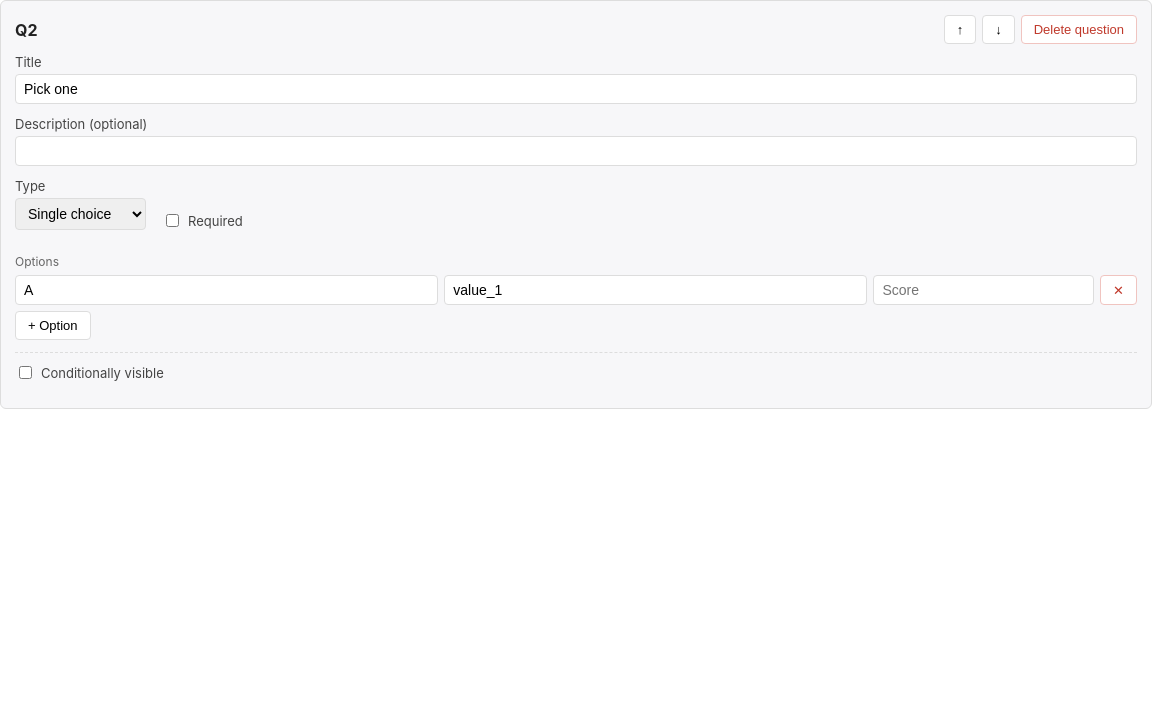
it: QuestionEditor — conditional visibility › toggling it back off removes visibleIf entirely rather than leaving an empty group
This screenshot has width=1152, height=720.
Click the checkbox labelled "Conditionally visible".
click(26, 372)  # box [19,366,32,379]
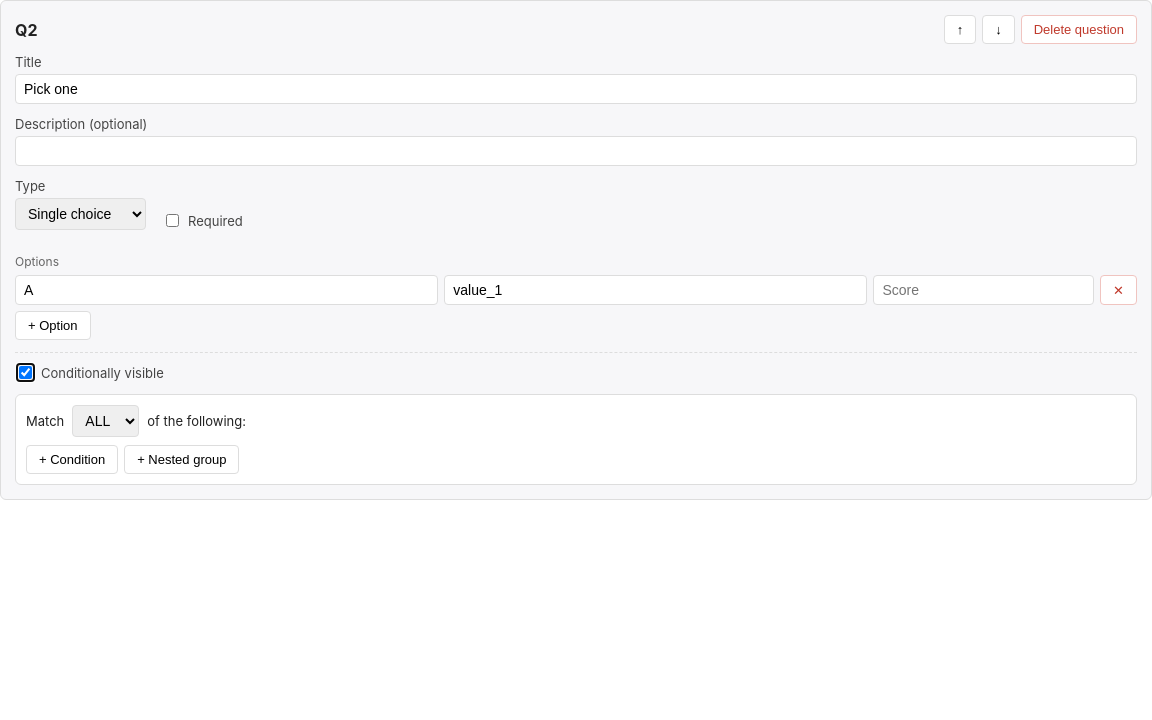
expect the text "Match" is shown: met, box [26,413,64,429]
Click the checkbox labelled "Conditionally visible".
click(26, 372)  # box [19,366,32,379]
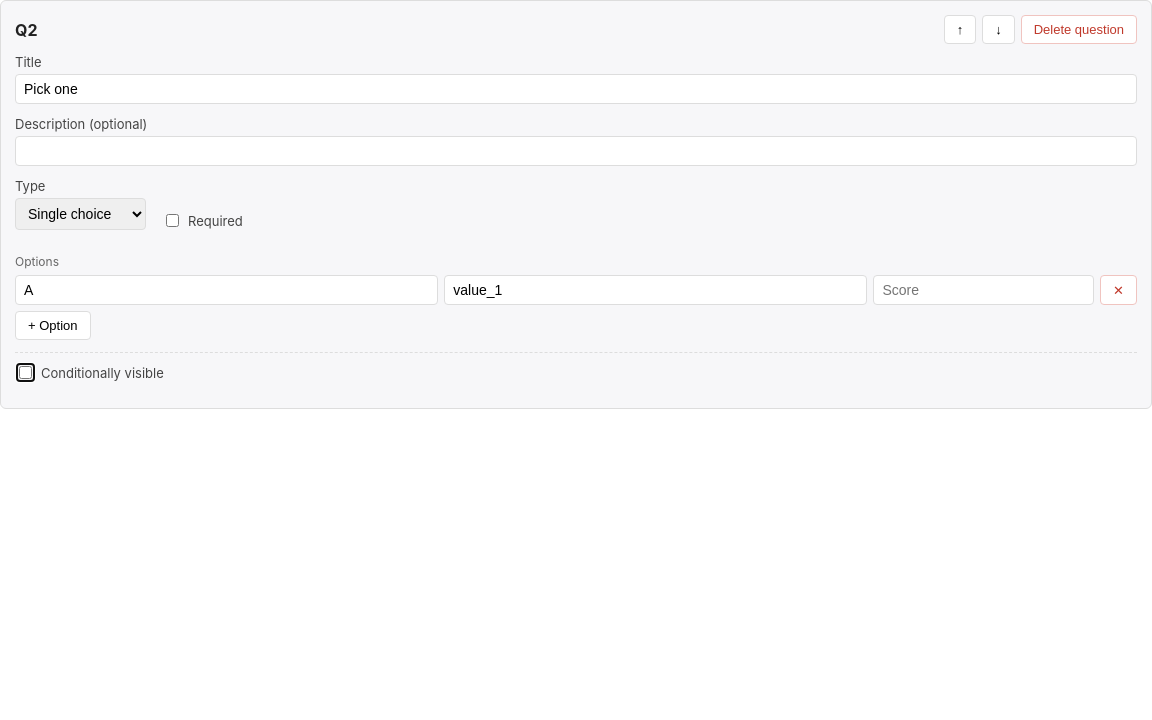
expect the text "Match" is gone: met
